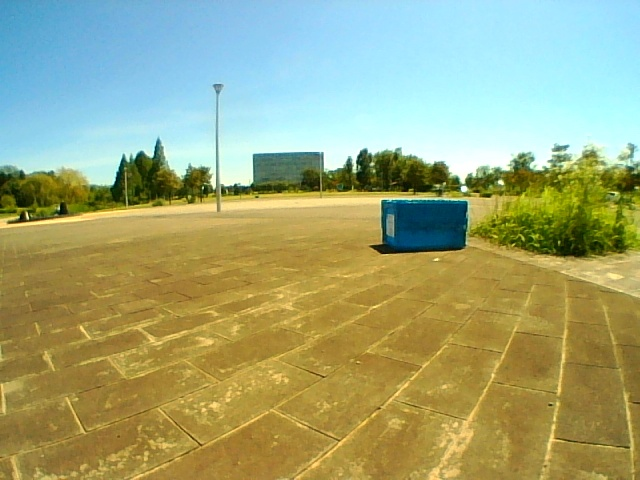blue_box: (382, 200, 467, 249)
tag: (384, 215, 393, 234)
